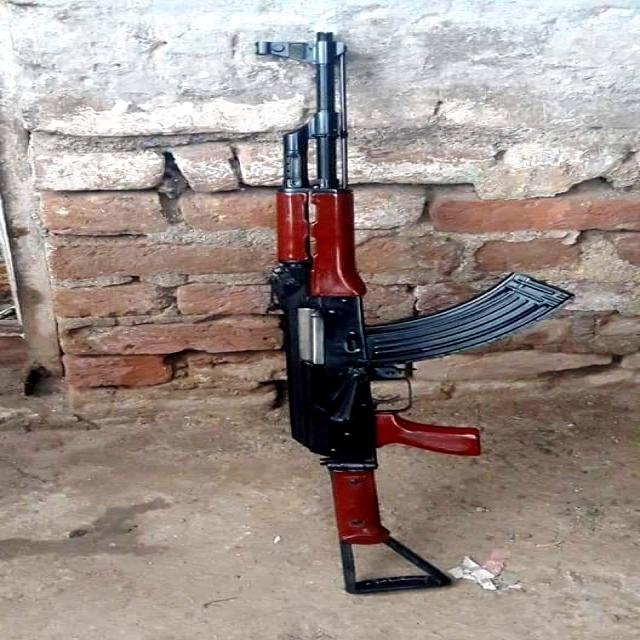ak: (227, 25, 596, 593)
